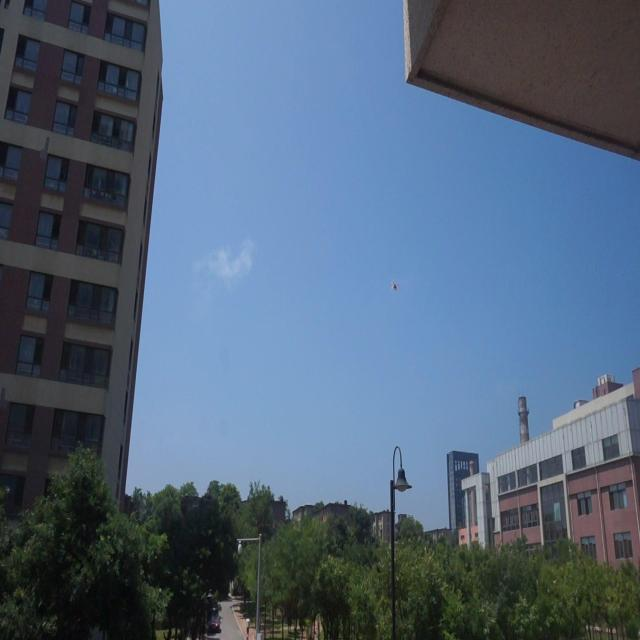drone: (388, 279, 402, 295)
